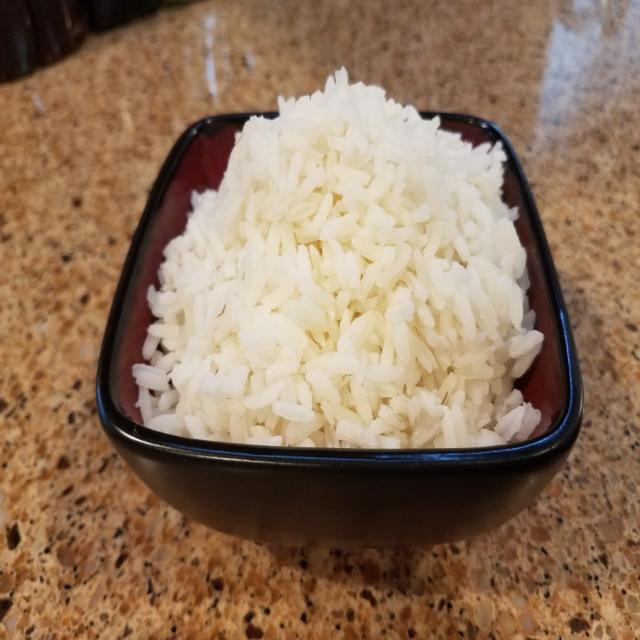Wet Waste: (127, 60, 549, 454)
